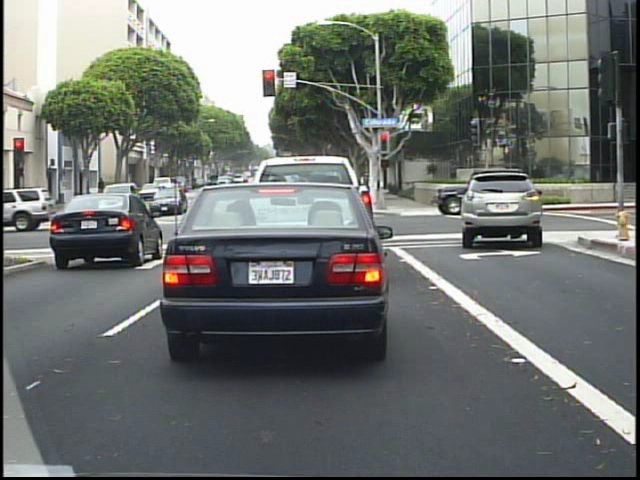person: (94, 176, 110, 204)
